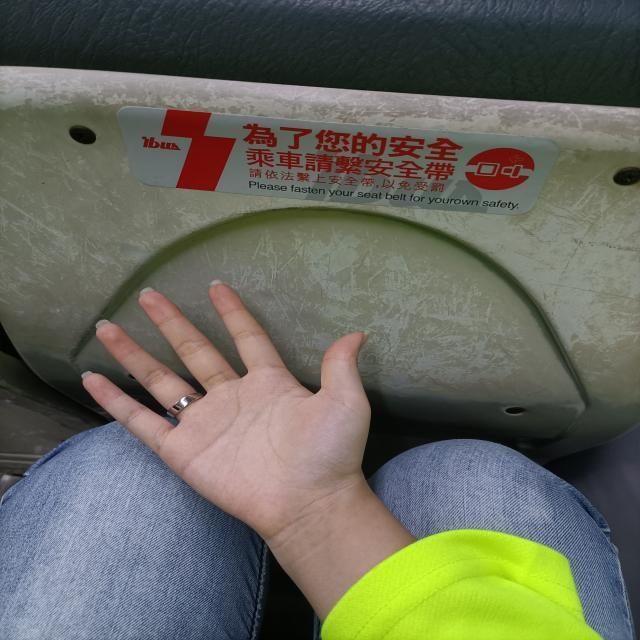hand: (67, 271, 390, 544)
